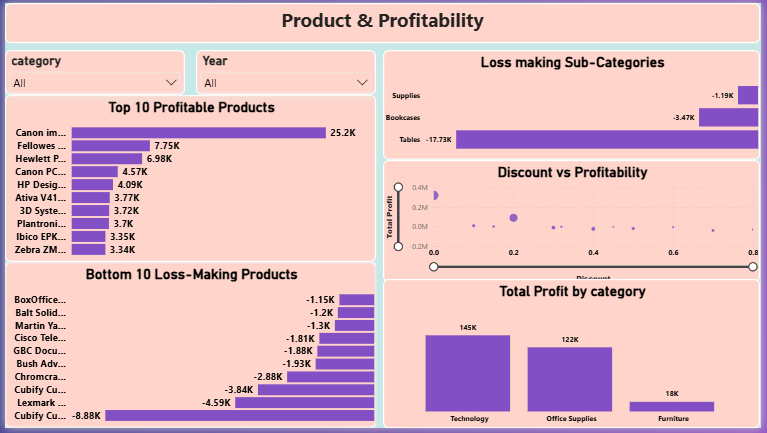

This screenshot's page, from the dashboard's own definition file:
{"tool":"powerbi","page":{"name":"Product & Profitability","canvas":[1280,720],"ordinal":1},"visuals":[{"type":"barChart","title":"Loss making Sub-Categories","fields":{"Y":["superstore_db superstore.Total Profit"],"Category":["superstore_db superstore.sub_category"]},"box":[640.7,79.7,639,186.4],"z":0},{"type":"clusteredBarChart","title":"Top 10 Profitable Products","fields":{"Category":["superstore_db superstore.product_name"],"Y":["superstore_db superstore.Total Profit"]},"box":[0,155.9,628.8,283.1],"z":1000},{"type":"clusteredBarChart","title":"Bottom 10 Loss-Making Products","fields":{"Category":["superstore_db superstore.product_name"],"Y":["superstore_db superstore.Total Profit"]},"box":[0,439,628.8,281.4],"z":2000},{"type":"scatterChart","title":"Discount vs Profitability","fields":{"Y":["superstore_db superstore.Total Profit"],"X":["superstore_db superstore.discount"],"Size":["superstore_db superstore.Total Sales"]},"box":[640.7,266.1,639,206.8],"z":3000},{"type":"clusteredColumnChart","fields":{"Category":["superstore_db superstore.category"],"Y":["superstore_db superstore.Total Profit"]},"box":[640.7,467.8,639,252.5],"z":4000},{"type":"slicer","fields":{"Values":["superstore_db superstore.category"]},"box":[0,79.7,305.1,76.3],"z":5000},{"type":"slicer","fields":{"Values":["superstore_db superstore.order_date.Variation.Date Hierarchy.Year"]},"box":[323.7,79.7,305.1,76.3],"z":6000},{"type":"textbox","box":[0,0,1279.7,67.8],"z":7000}]}

Visuals, with their boxes in screenshot pixels (x1, y1, x2, y2), scaled from the page's 1280x720 canvas onto the 767x433 screenshot:
"Loss making Sub-Categories" barChart: [384, 48, 766, 160]
"Top 10 Profitable Products" clusteredBarChart: [0, 94, 377, 264]
"Bottom 10 Loss-Making Products" clusteredBarChart: [0, 264, 377, 432]
"Discount vs Profitability" scatterChart: [384, 160, 766, 284]
clusteredColumnChart - superstore_db superstore.category x superstore_db superstore.Total Profit: [384, 281, 766, 432]
slicer - superstore_db superstore.category: [0, 48, 183, 94]
slicer - superstore_db superstore.order_date.Variation.Date Hierarchy.Year: [194, 48, 377, 94]
textbox: [0, 0, 766, 41]
